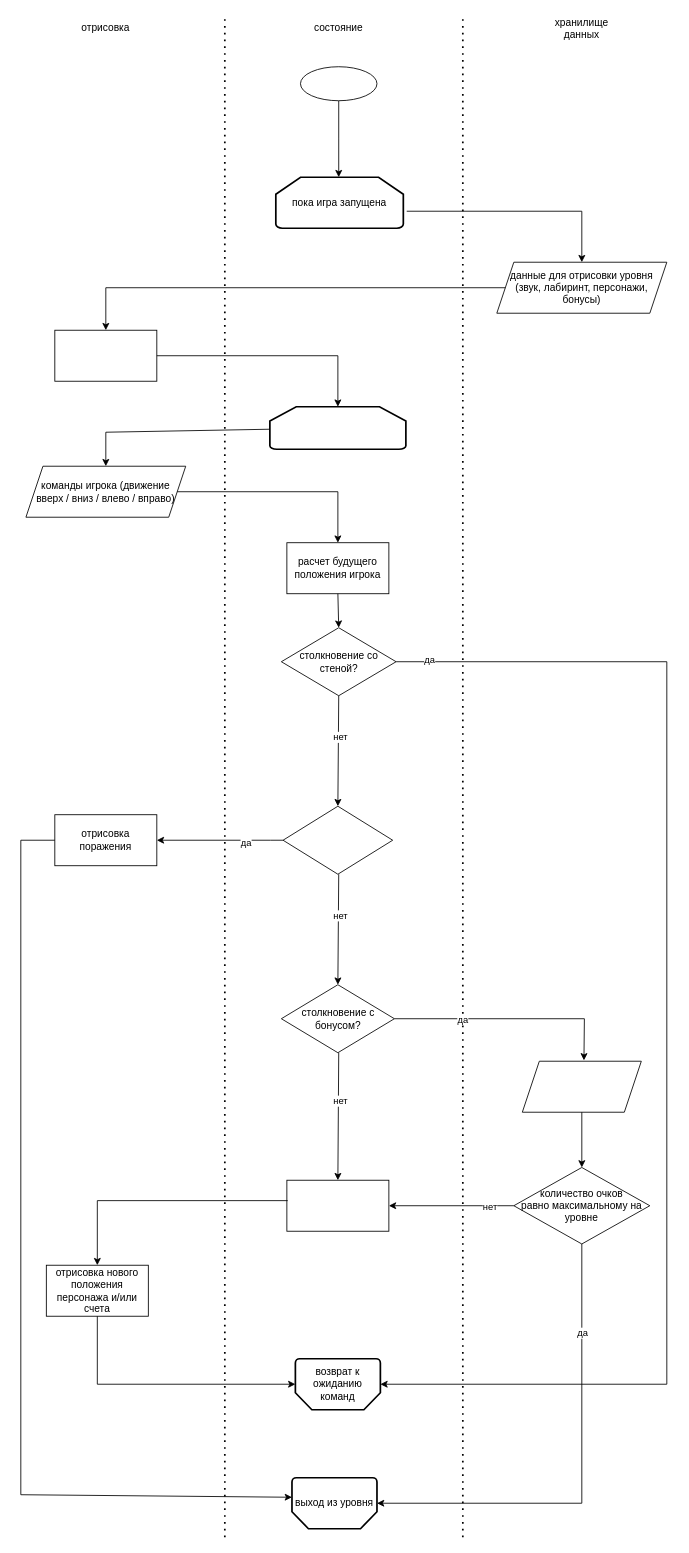
This 689x1553 diagram has some shape labels left out. Here are the shapes that lost their labels. From the top down, the centre of each, then its label:
At [338,83]: "запуск игры".
At [105,355]: "отрисовка уровня".
At [337,427]: "ожидание команд игрока".
At [337,839]: "столкновение с врагом?".
At [581,1086]: "обновить количество очков".
At [337,1205]: "обновление положения игрока".
